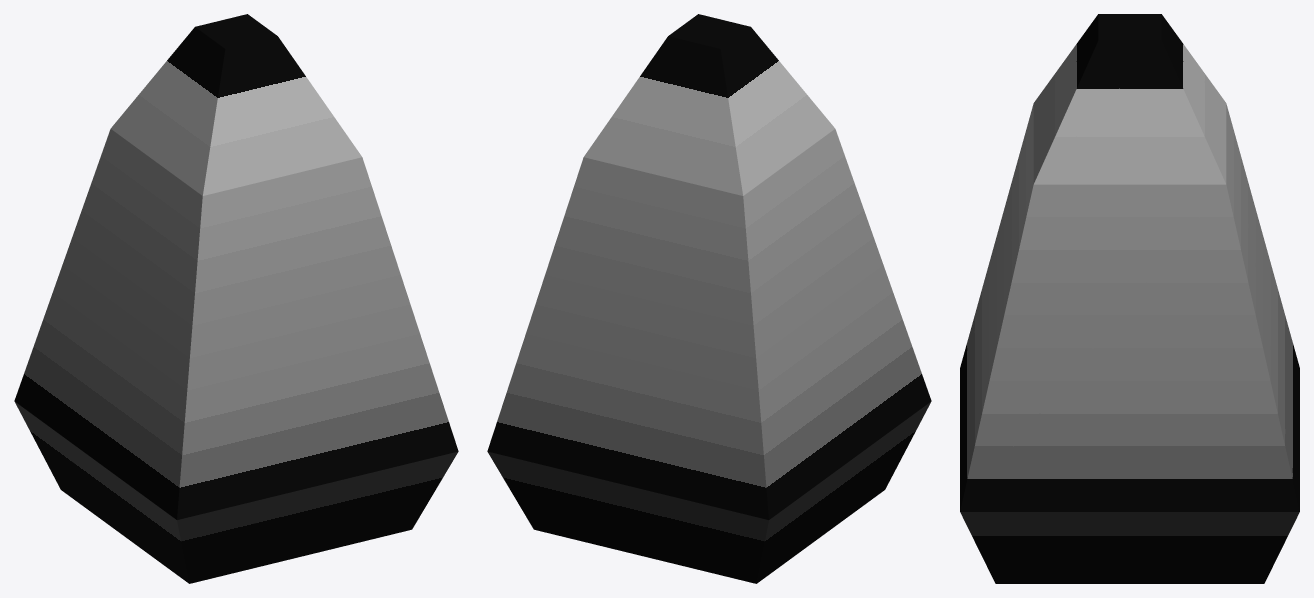
File: DropPod.obj
The picture shows the model from 3 angles, left to right: view 1: azimuth 30°, elevation 25°; view 2: azimuth 150°, elevation 25°; view 3: azimuth 270°, elevation 25°; orthographic projection. The views are drawn at different scales.
Visible parts, largest first — view 1: Cube; view 2: Cube; view 3: Cube.
Boxes of the visible parts, x1=… form: Cube: x1=14, y1=14, x2=458, y2=583; Cube: x1=487, y1=14, x2=931, y2=583; Cube: x1=960, y1=14, x2=1299, y2=583.
Size of the model in its own units: 2 by 3.24 by 2.
